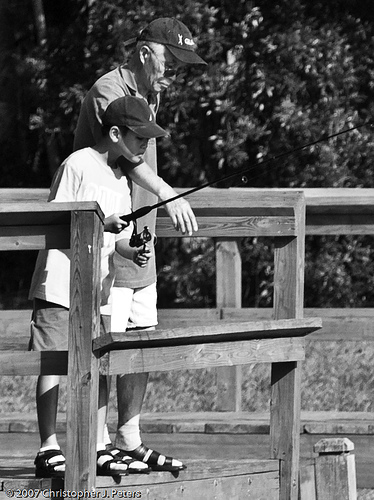without_mask: (132, 30, 192, 95), (101, 115, 153, 167)
